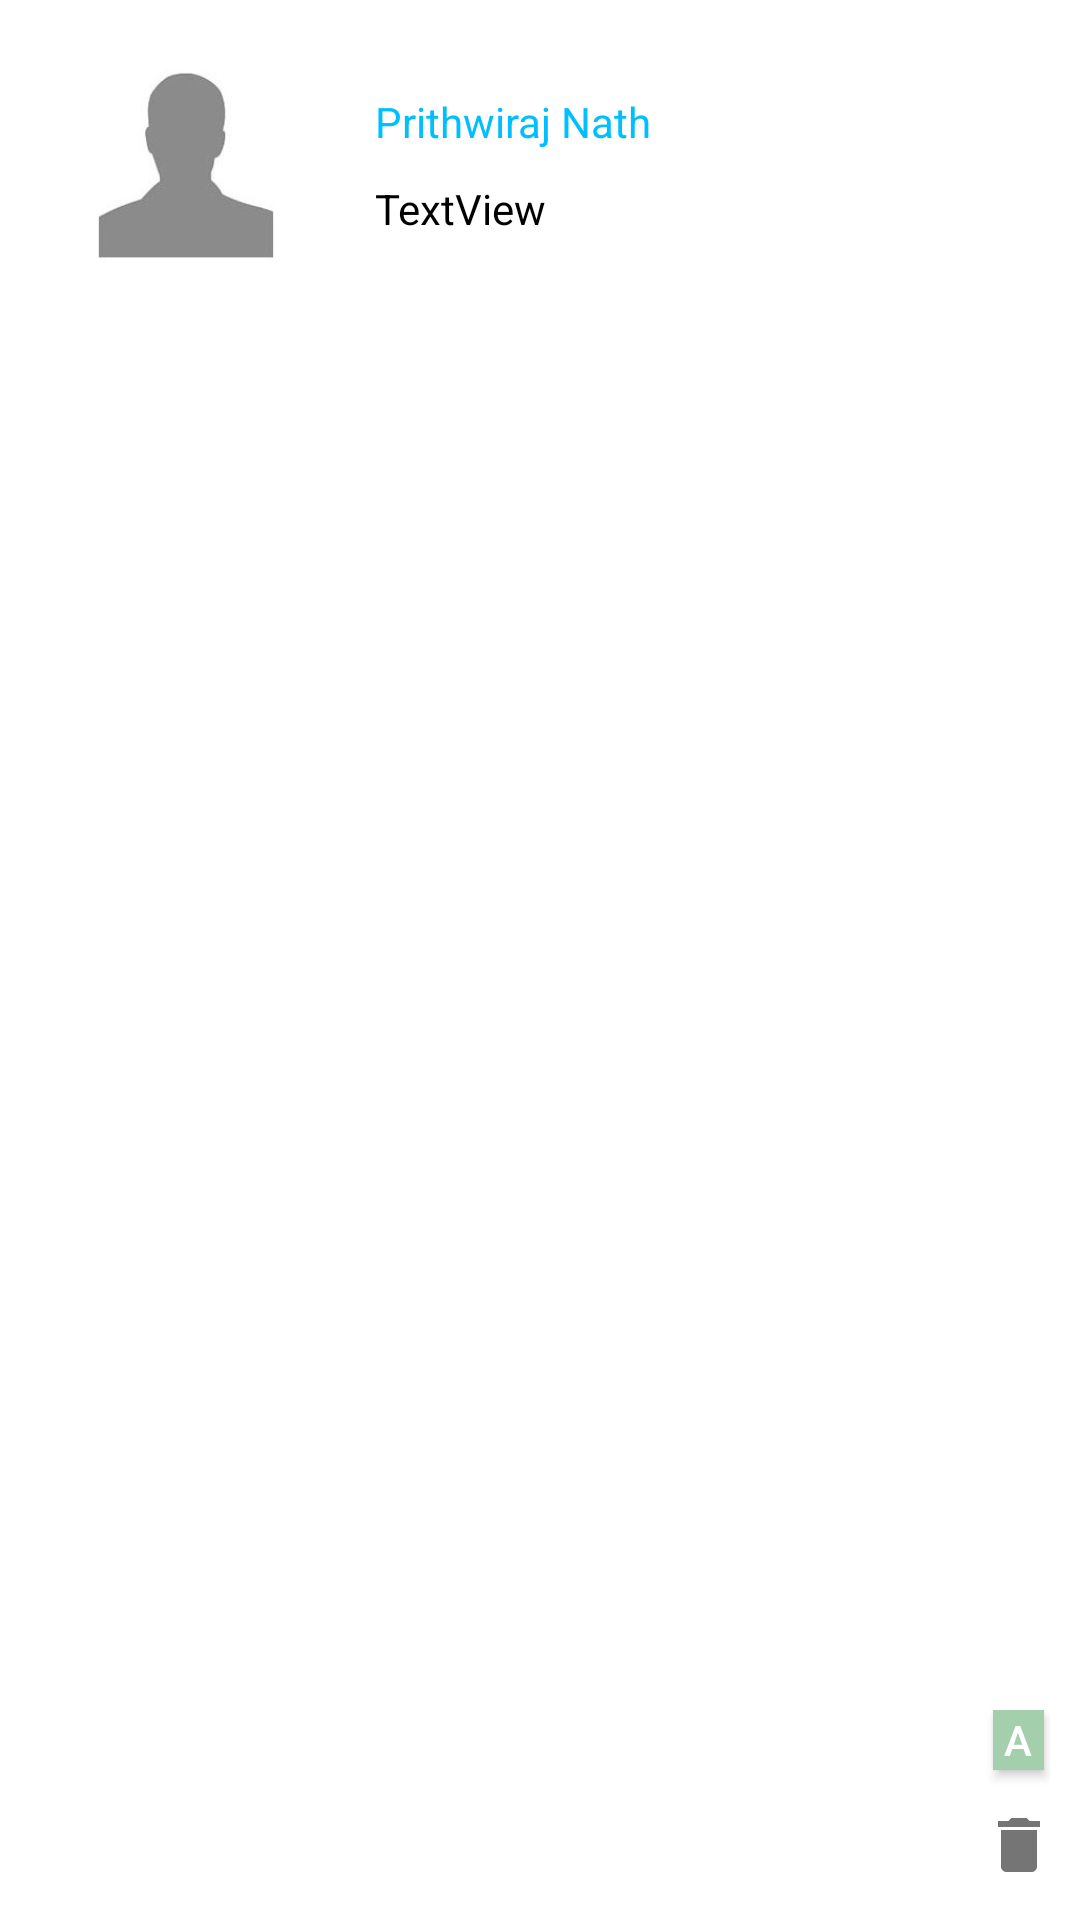

Icon bounding boxes for this 1080px×1920px phone screenshot, format (x1, y1, x2, y2):
delete: (998, 1818, 1040, 1872)
